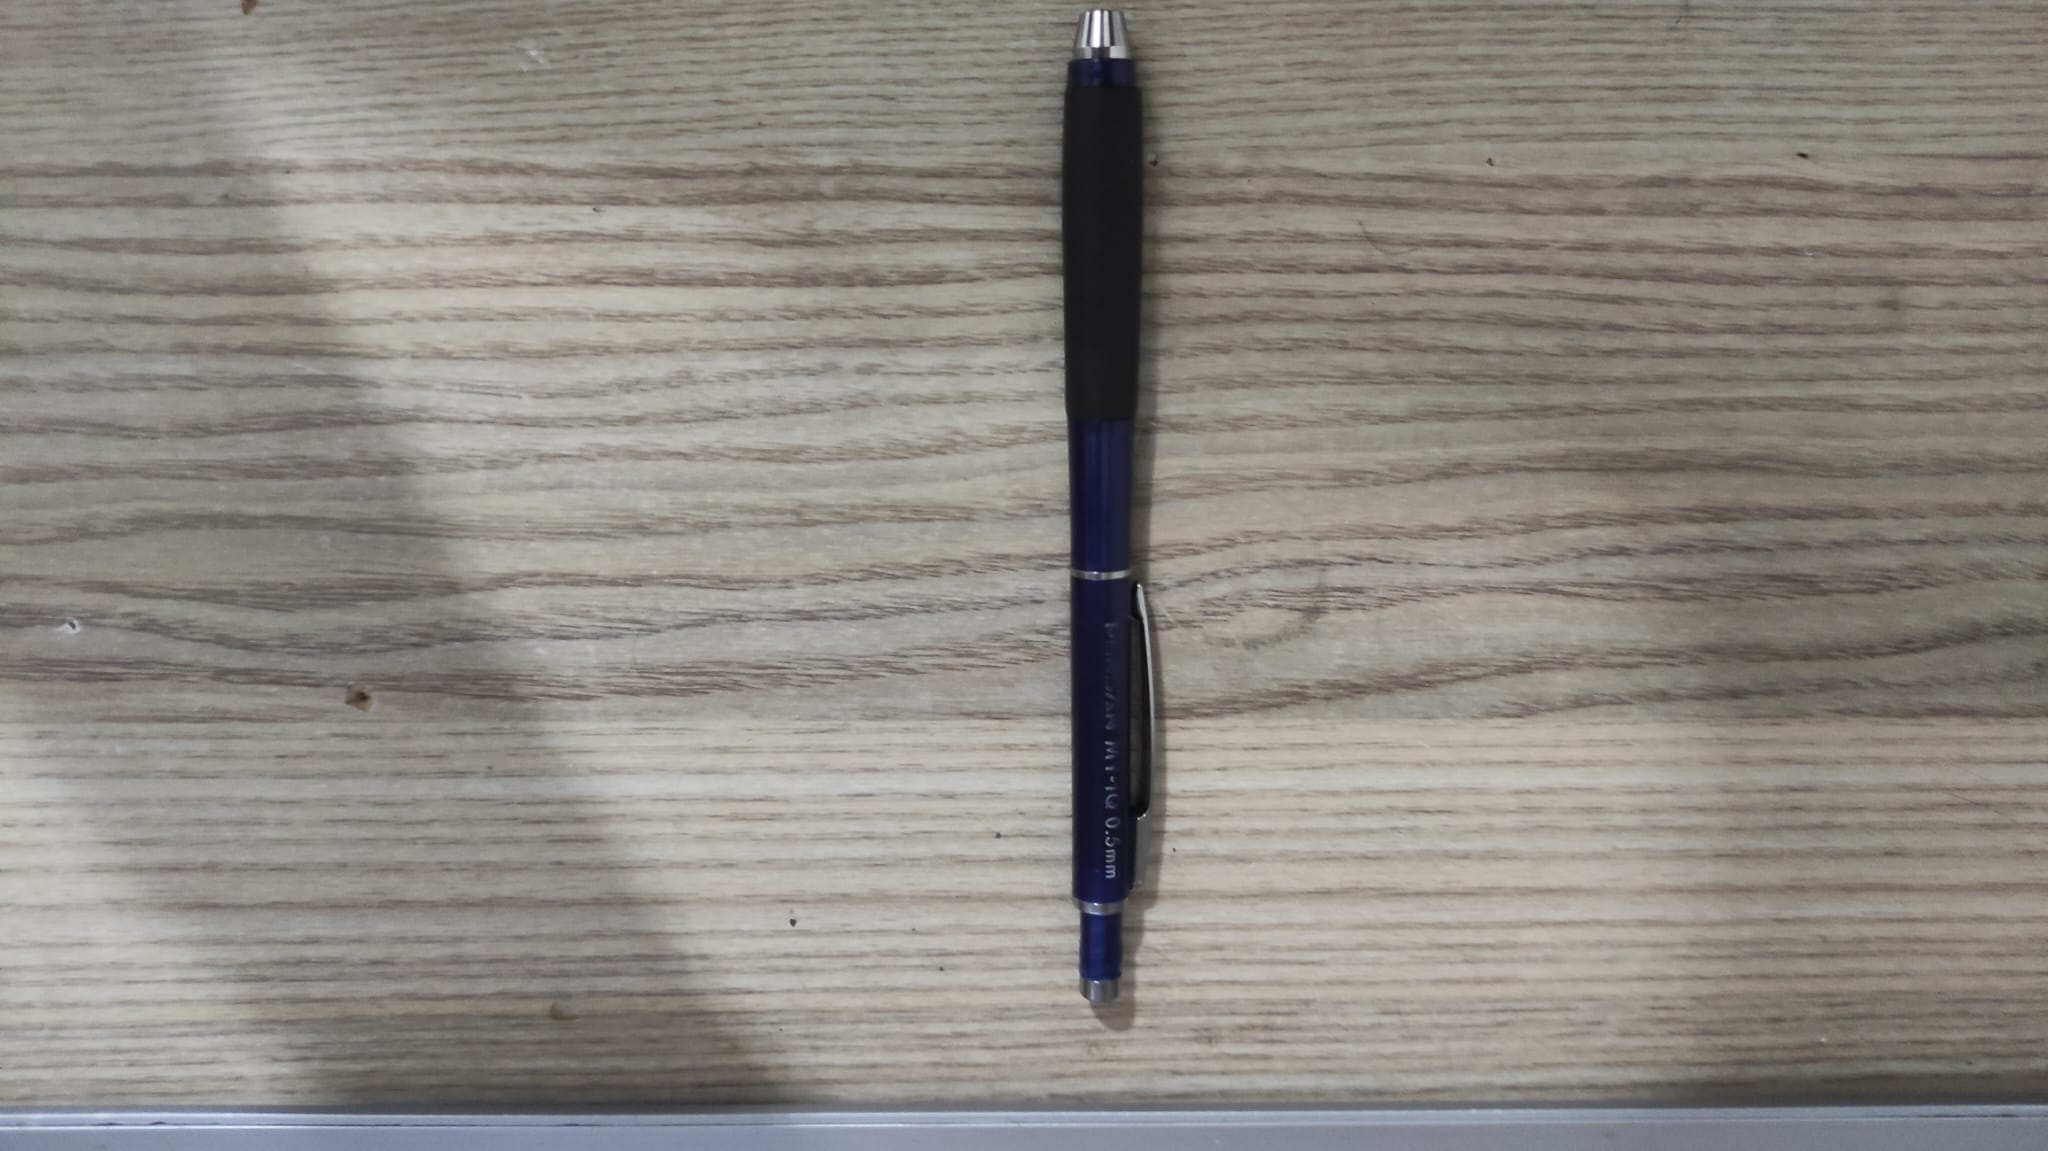kalem: (1063, 7, 1162, 1005)
